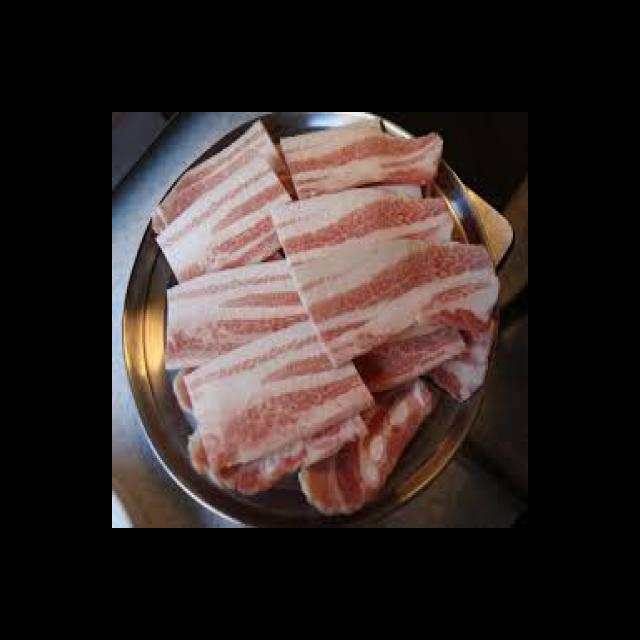pork: (195, 344, 395, 482), (278, 207, 490, 331), (165, 172, 315, 262), (162, 272, 317, 348), (287, 132, 450, 196)
